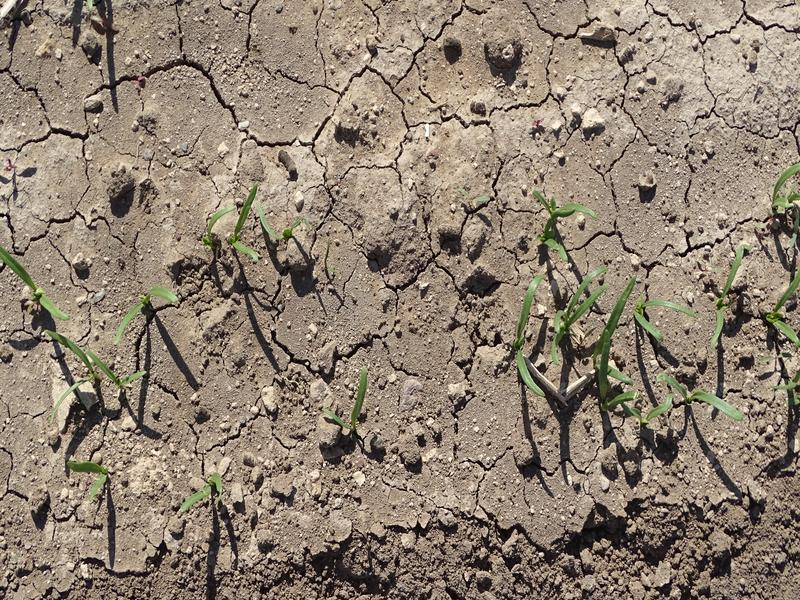Espinaca: (506, 263, 754, 423), (204, 185, 314, 265), (769, 158, 800, 343), (45, 331, 93, 426), (526, 194, 592, 259), (2, 251, 64, 317), (114, 281, 181, 341), (321, 363, 370, 427), (66, 451, 114, 501), (92, 351, 145, 392), (178, 468, 224, 515)
